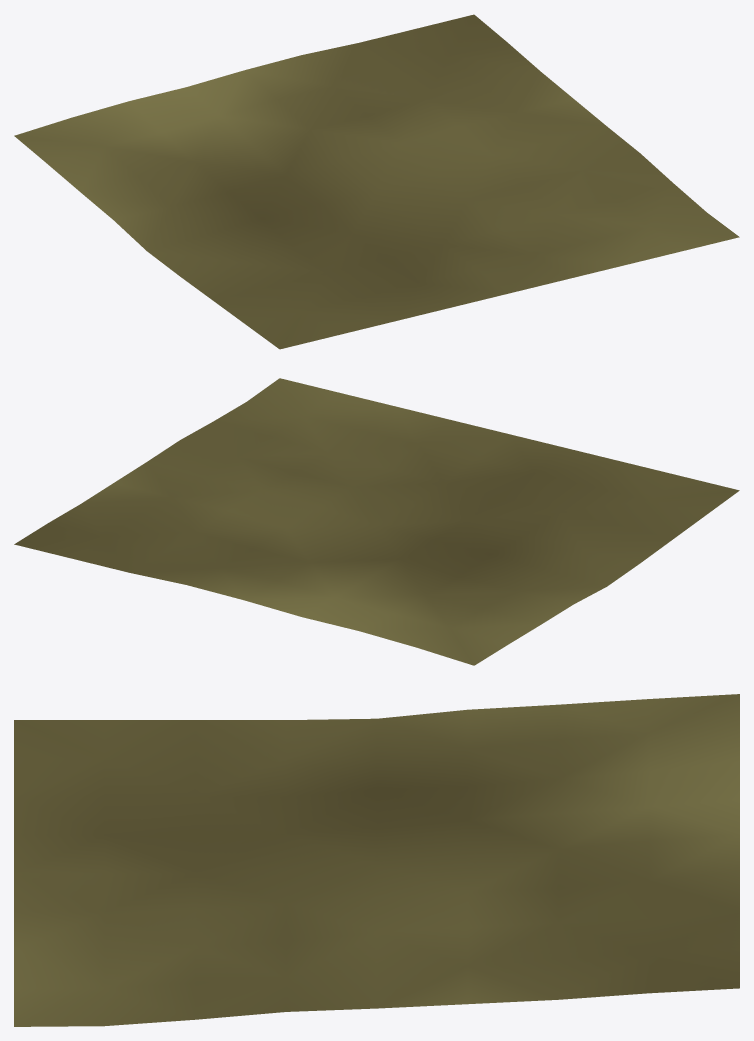
The model's file is terrain_lod2_0_4.obj.
The picture shows the model from 3 angles, top to bottom: view 1: azimuth 30°, elevation 25°; view 2: azimuth 150°, elevation 25°; view 3: azimuth 270°, elevation 25°; orthographic projection. The views are drawn at different scales.
Parts seen in each view (by area): view 1: terrain_lod2_0_4; view 2: terrain_lod2_0_4; view 3: terrain_lod2_0_4.
Part boxes in pixels (x1=…): terrain_lod2_0_4: x1=14, y1=14, x2=739, y2=349; terrain_lod2_0_4: x1=14, y1=378, x2=739, y2=665; terrain_lod2_0_4: x1=14, y1=694, x2=739, y2=1026.
Bounding box in the file's own units: 128 × 7.89 × 128.
